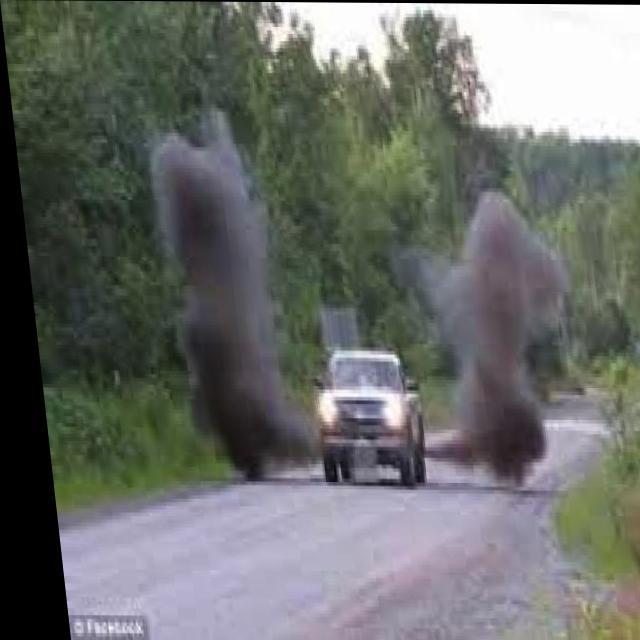Smoke: (130, 117, 336, 493), (390, 196, 587, 492)
